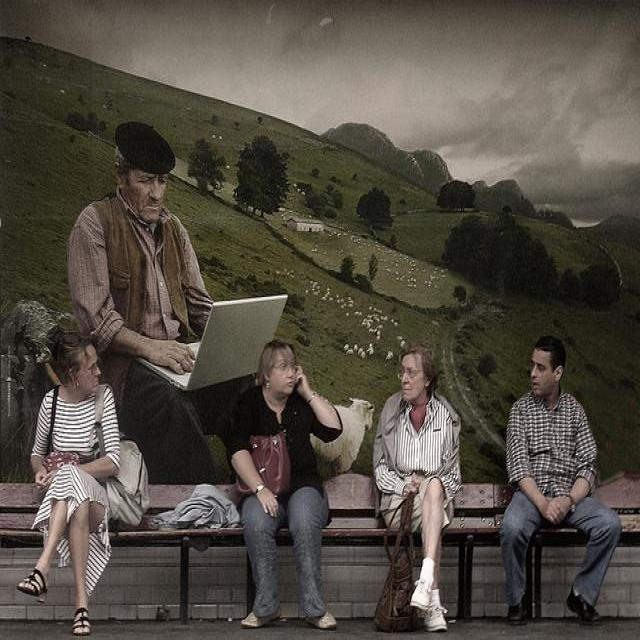Sheep: (310, 397, 375, 482)
